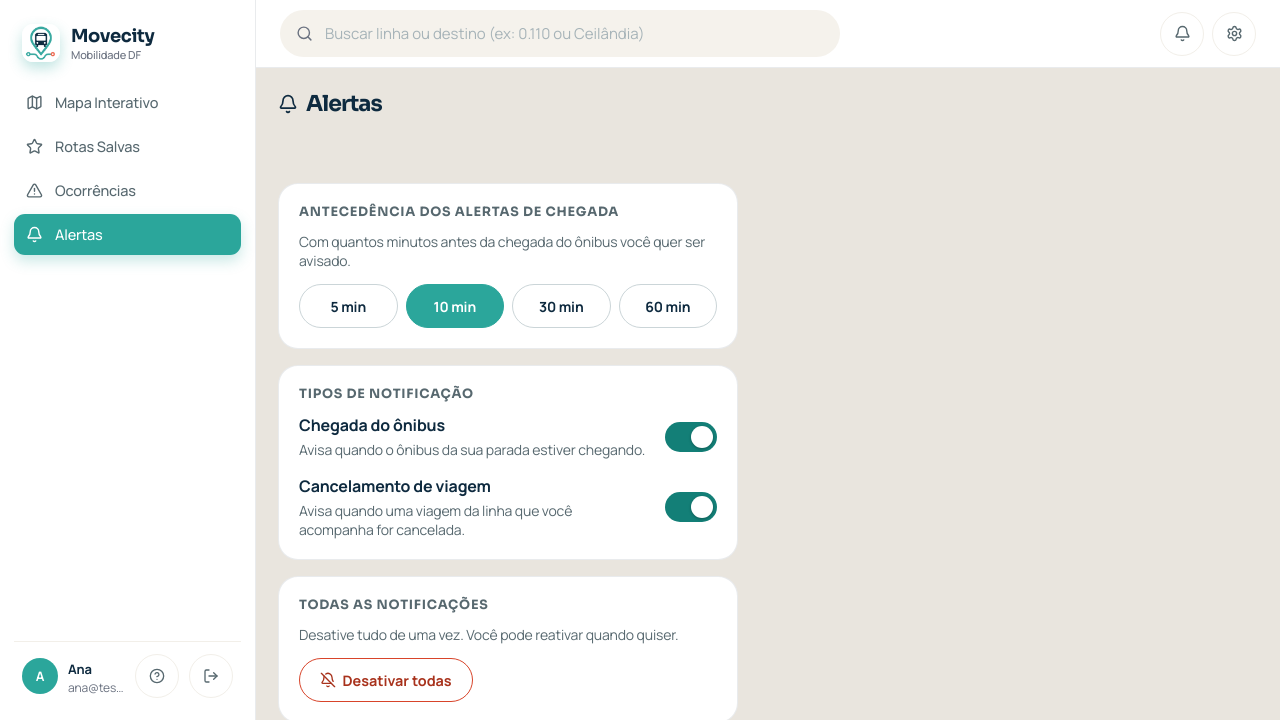
Test: Alertas (US #29) › cenário 2: desativar cancelamento mantém chegada ativa
The image size is (1280, 720).
Expected: the element showing "5 min 10 min 30 min 60 min" is shown, [299,284,717,328]
Click the switch named "Cancelamento de viagem" in the row of "Cancelamento de viagem" at [691, 507], box [665,485,717,529]
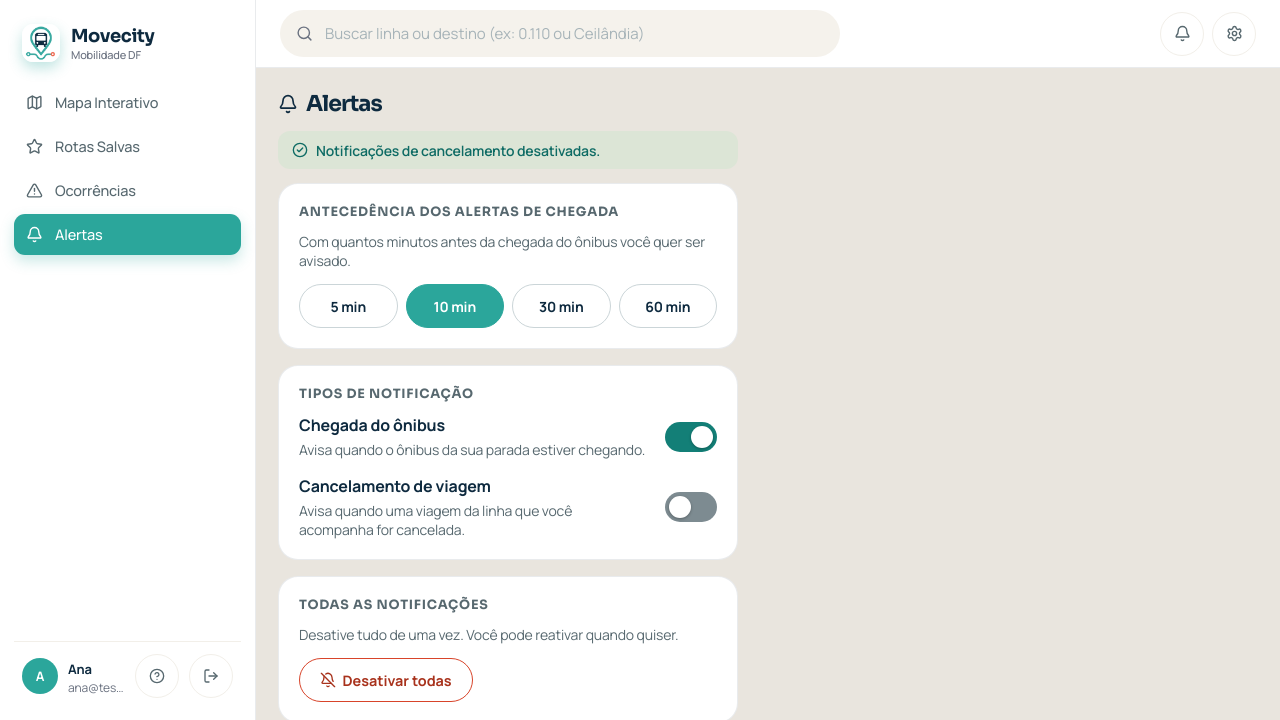
Expected: the 1st switch named "Chegada do ônibus" is checked, [665,415,717,459]
Expected: the switch named "Cancelamento de viagem" in the row of "Cancelamento de viagem" is not checked, [665,485,717,529]
Expected: the text "Notificações de cancelamento desativadas." is shown, [316,141,600,160]
